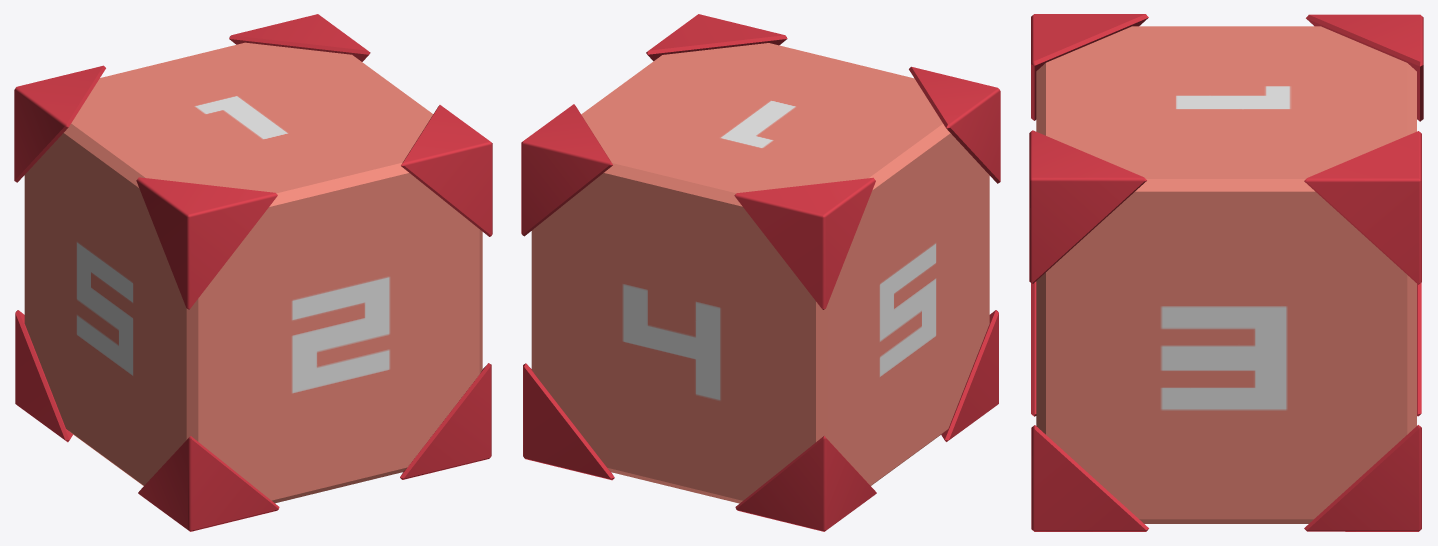
Rendered from MEC0110029.fbx.
3 views of the same model, side by side, from view 1: azimuth 30°, elevation 25°; view 2: azimuth 150°, elevation 25°; view 3: azimuth 270°, elevation 25° (orthographic). The views are drawn at different scales.
Visible parts, largest first — view 1: smMEC0110029; view 2: smMEC0110029; view 3: smMEC0110029.
Boxes of the visible parts, x1,y1,x2,y2 form: smMEC0110029: [14, 14, 492, 531]; smMEC0110029: [521, 14, 1000, 531]; smMEC0110029: [1029, 14, 1423, 531].
Size of the model in its own units: 177 by 176 by 177.
1 material, 1 textured.
